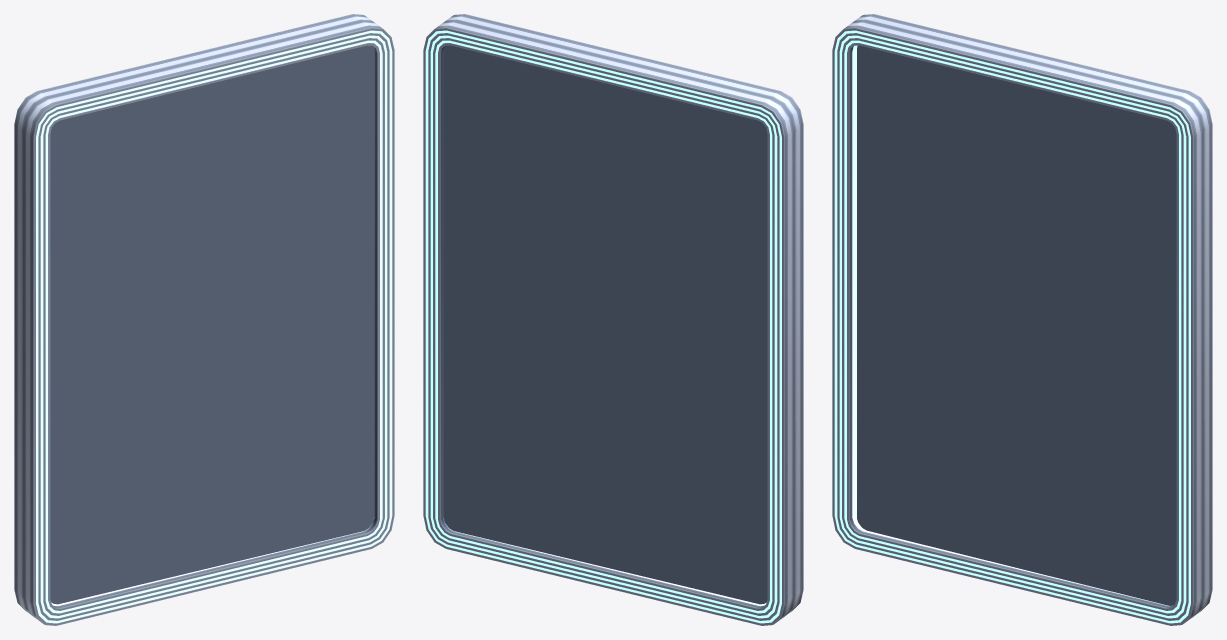
File: obj_discord.gltf
3 renders of one model, left to right at view 1: azimuth 30°, elevation 25°; view 2: azimuth 150°, elevation 25°; view 3: azimuth 330°, elevation 25°, orthographic.
Parts seen in each view (by area): view 1: obj_discord; view 2: obj_discord; view 3: obj_discord.
Part boxes in pixels (<box>): obj_discord: <box>14,14,394,625</box>; obj_discord: <box>423,14,803,625</box>; obj_discord: <box>832,14,1212,625</box>.
Size of what is drawn, in the model's own units: 2.04 by 2.81 by 0.1875.
Materials: 2 (1 with a texture image).
